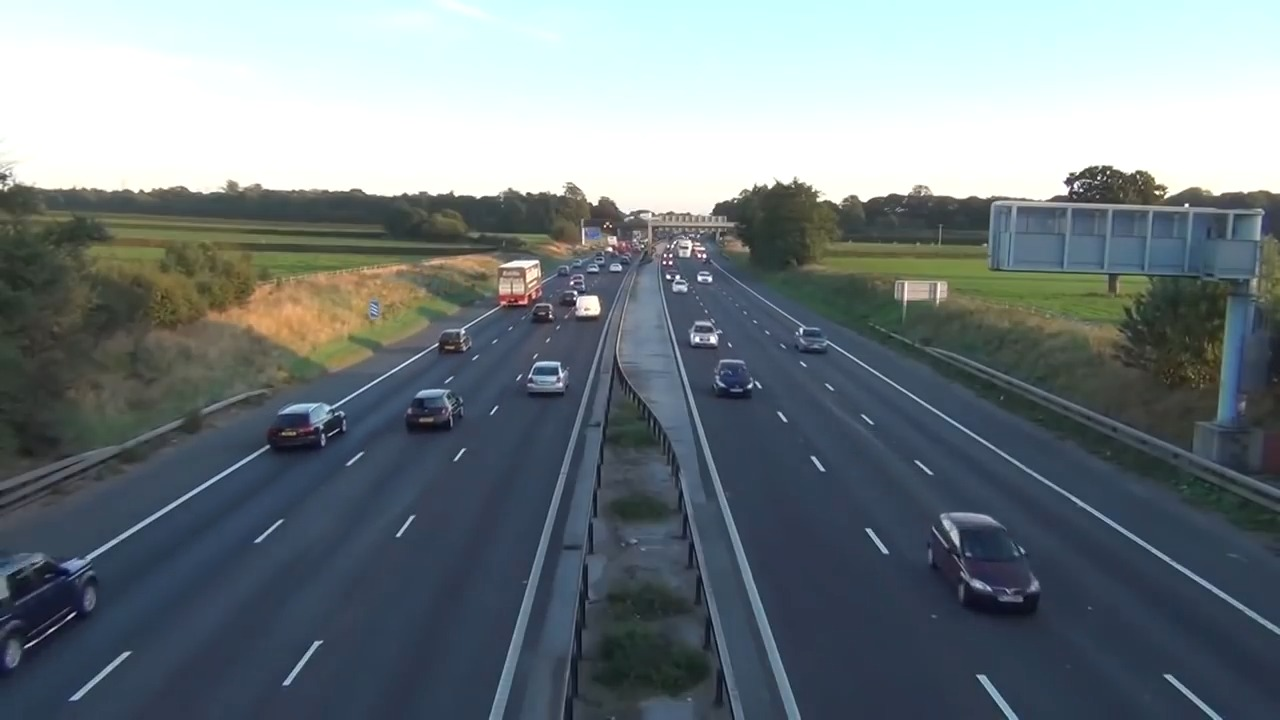truck: (494, 262, 546, 311)
